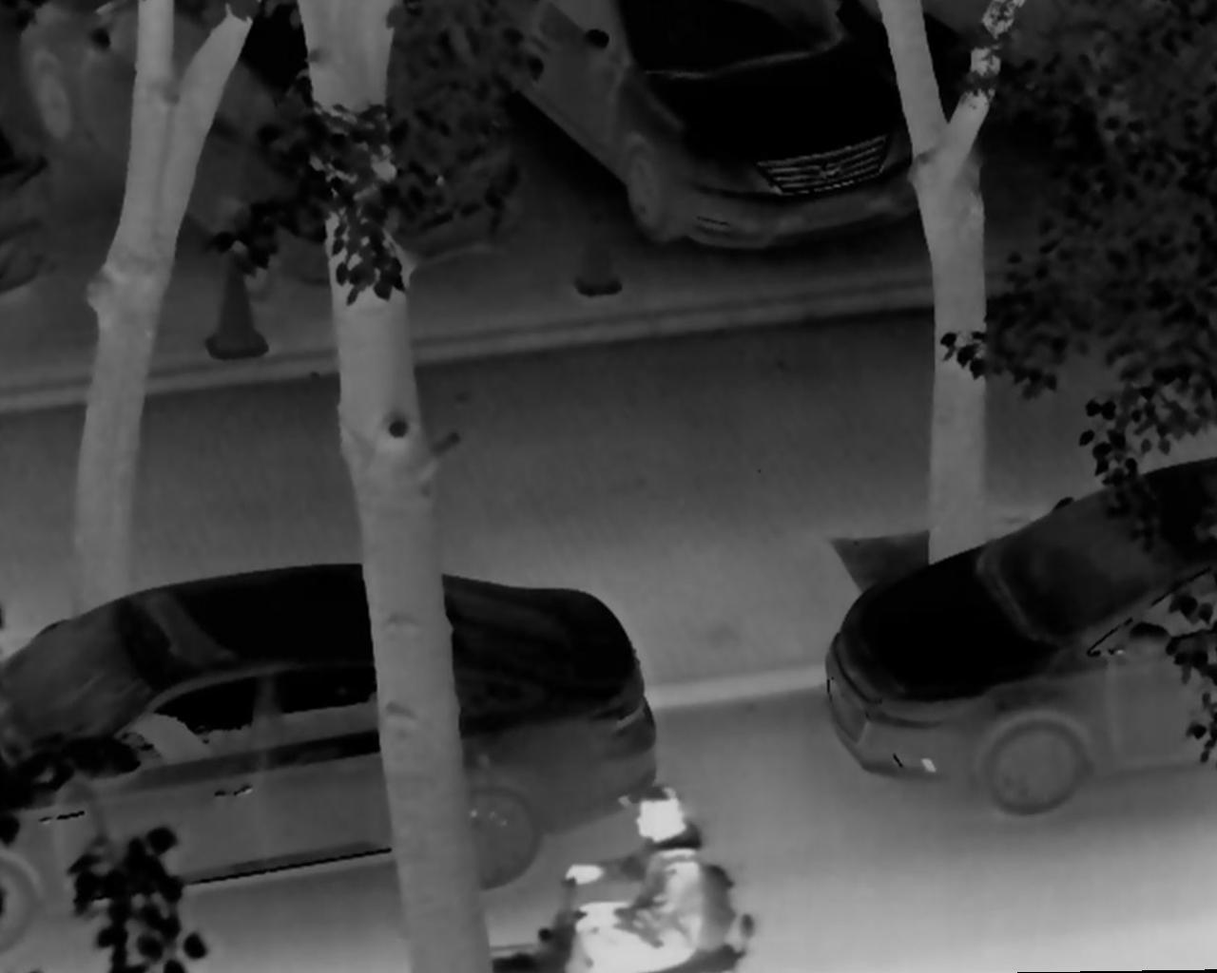person: (561, 785, 707, 973)
